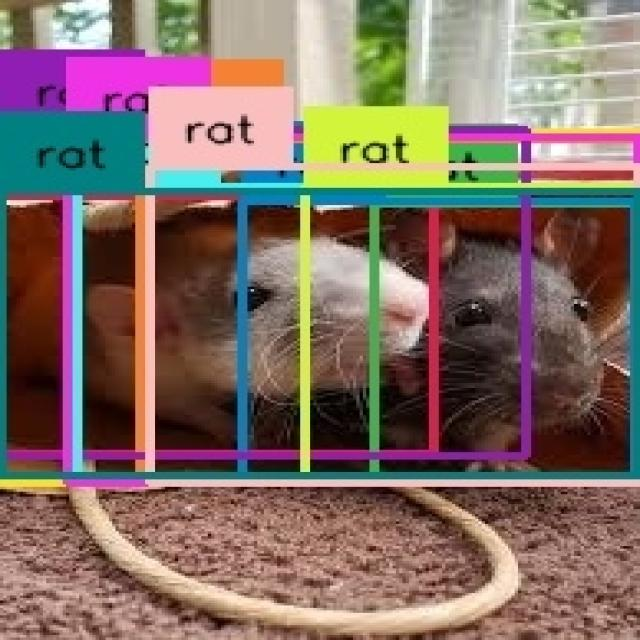rat: (0, 131, 640, 482), (68, 136, 638, 482), (2, 192, 638, 476), (0, 130, 528, 456), (141, 141, 638, 482), (77, 188, 638, 482), (150, 167, 638, 483), (0, 195, 435, 454), (243, 201, 635, 483), (303, 185, 640, 484), (372, 204, 636, 483)
